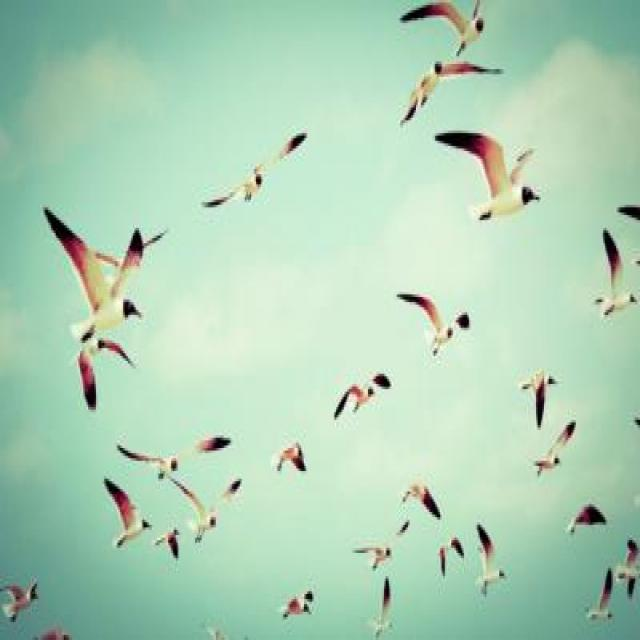birds: (35, 189, 149, 358), (436, 122, 548, 242), (203, 128, 316, 221), (396, 61, 506, 126), (396, 282, 474, 368), (400, 0, 504, 64), (65, 332, 139, 421), (111, 430, 235, 480), (582, 228, 640, 329), (173, 472, 247, 548), (102, 477, 154, 552), (532, 406, 579, 480), (468, 518, 510, 600), (329, 370, 395, 420), (1, 565, 46, 638), (516, 364, 564, 428), (563, 495, 608, 550), (582, 563, 622, 624), (399, 478, 448, 527), (265, 436, 313, 485), (364, 572, 398, 640), (354, 532, 399, 579), (430, 527, 465, 585), (279, 586, 323, 623), (153, 524, 183, 570), (618, 536, 640, 598)
